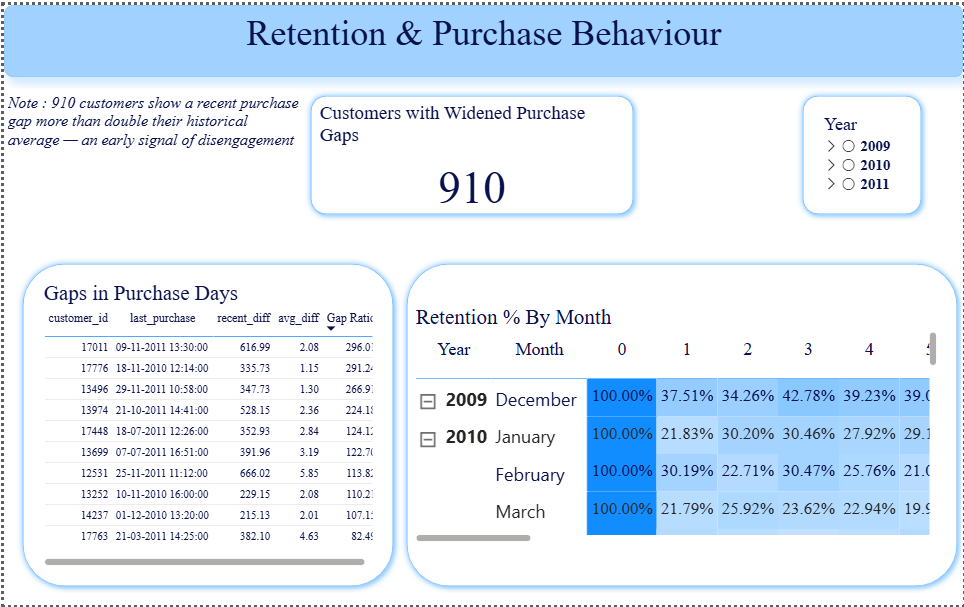

The page's visual inventory and layout, read from the dashboard file:
{"tool":"powerbi","page":{"name":"Retention & Purchase Behavior","canvas":[1280,800],"ordinal":2},"visuals":[{"type":"shape","box":[528,336,752,448],"z":0},{"type":"shape","box":[16,336,512,448],"z":1000},{"type":"shape","box":[400,112,448,176],"z":2000},{"type":"shape","box":[1056,112,176,176],"z":3000},{"type":"pivotTable","title":"Retention % By Month","fields":{"Columns":["public cohort_base.month_number"],"Values":["public cohort_base.retention %"],"Rows":["public cohort_base.cohort_month.Variation.Date Hierarchy.Year","public cohort_base.cohort_month.Variation.Date Hierarchy.Month"]},"box":[544,400,704,320],"z":4000},{"type":"cardVisual","title":"Customers with Widened Purchase Gaps","fields":{"Data":["CountNonNull(public wide_gaps.customer_id)"]},"box":[416,128,416,144],"z":5000},{"type":"tableEx","title":"Gaps in Purchase Days","fields":{"Values":["public wide_gaps.customer_id","public wide_gaps.last_purchase","public wide_gaps.recent_diff","public wide_gaps.avg_diff","public wide_gaps.Gap Ratio"]},"box":[48,368,448,384],"z":6000},{"type":"textbox","box":[0,0,1280,96],"z":7000},{"type":"listSlicer","fields":{"Values":["public cohort_base.cohort_month.Variation.Date Hierarchy.Year","public cohort_base.cohort_month.Variation.Date Hierarchy.Quarter","public cohort_base.cohort_month.Variation.Date Hierarchy.Month"]},"box":[1088,144,112,112],"z":8000},{"type":"textbox","box":[0,112,400,96],"z":8001}]}

Visuals, with their boxes in screenshot pixels (x1, y1, x2, y2), scaled from the page's 1280x800 canvas onto the 964x607 screenshot:
shape: [398, 255, 963, 595]
shape: [12, 255, 398, 595]
shape: [301, 85, 639, 219]
shape: [795, 85, 928, 219]
"Retention % By Month" pivotTable: [410, 304, 940, 546]
"Customers with Widened Purchase Gaps" cardVisual: [313, 97, 627, 206]
"Gaps in Purchase Days" tableEx: [36, 279, 374, 571]
textbox: [0, 0, 963, 73]
listSlicer - public cohort_base.cohort_month.Variation.Date Hierarchy.Year x public cohort_base.cohort_month.Variation.Date Hierarchy.Quarter: [819, 109, 904, 194]
textbox: [0, 85, 301, 158]
